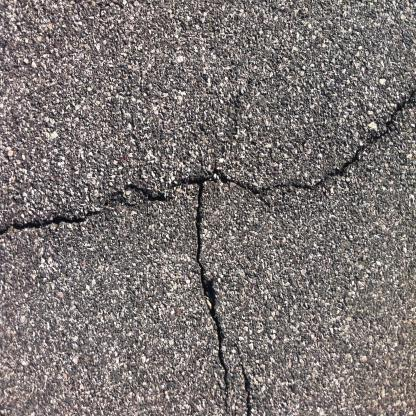Cracks: (0, 83, 414, 242), (189, 169, 233, 415), (235, 350, 256, 415)
